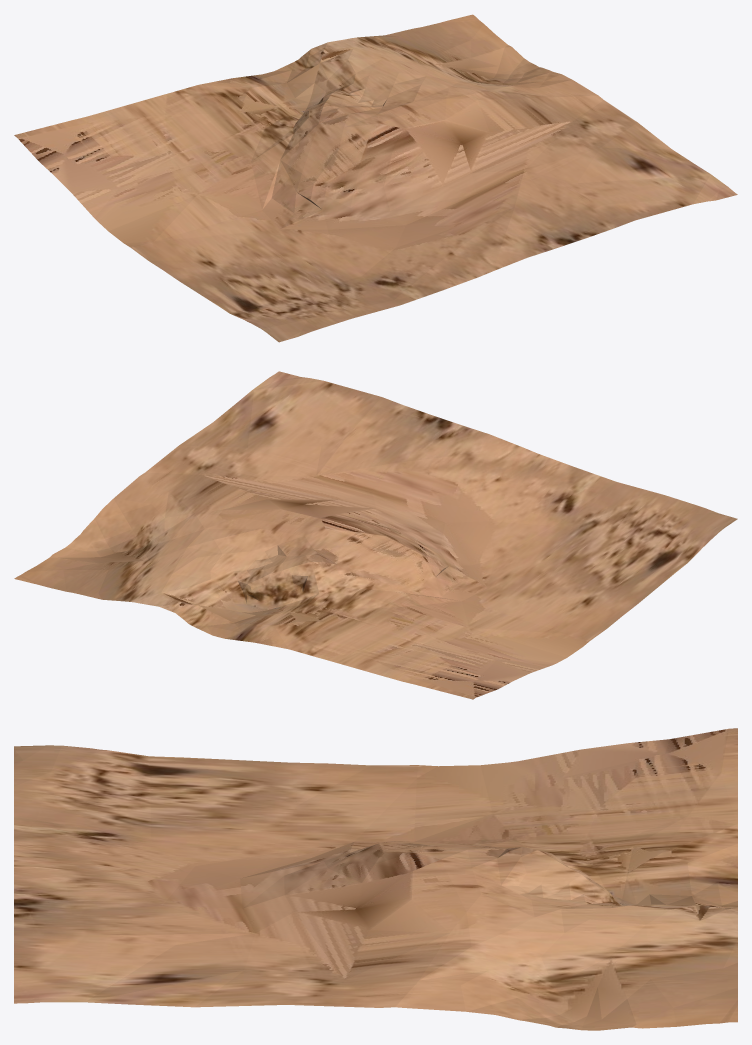
3 views of the same model, one above another, from view 1: azimuth 30°, elevation 25°; view 2: azimuth 150°, elevation 25°; view 3: azimuth 270°, elevation 25° (orthographic). The views are drawn at different scales.
Size of the model in its own units: 1.04 by 0.1231 by 1.04.
2 materials, 2 textured.
